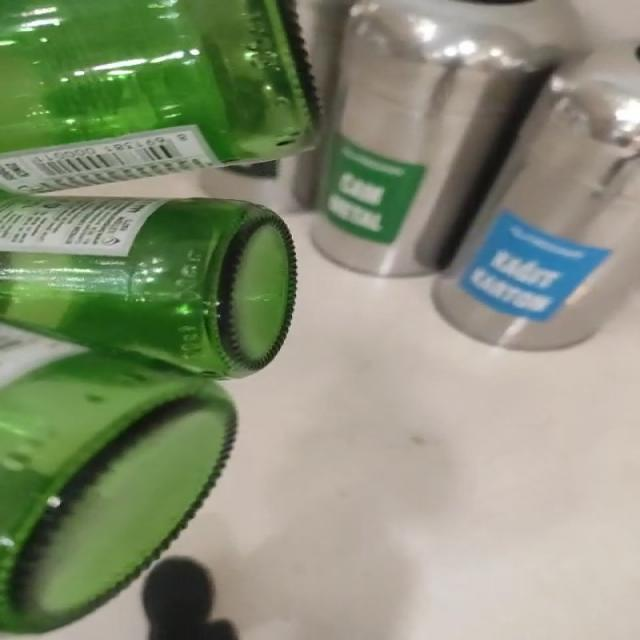glass: (0, 0, 315, 635)
